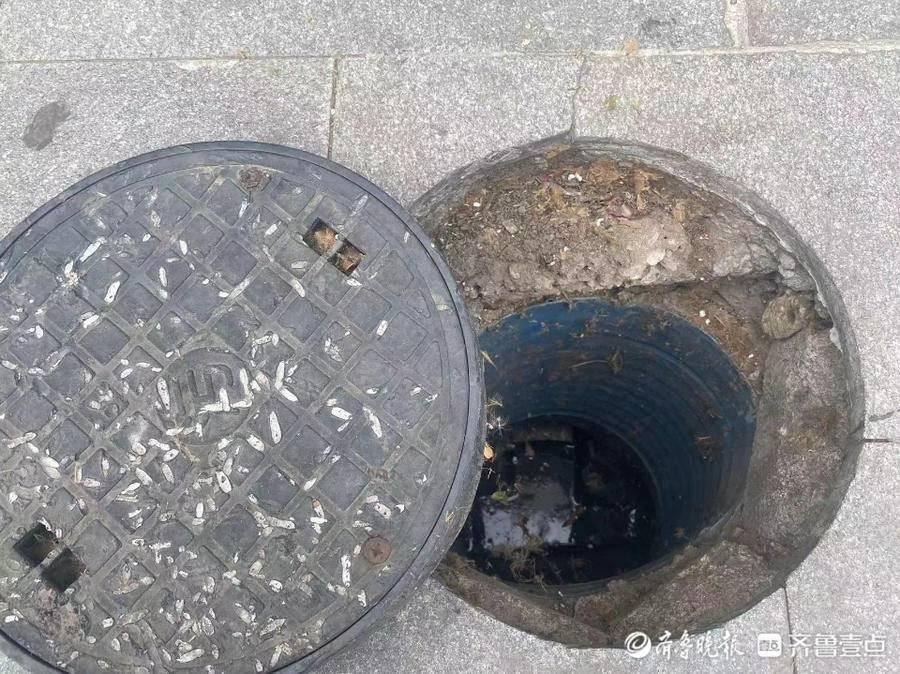wellcover: (0, 92, 880, 674)
